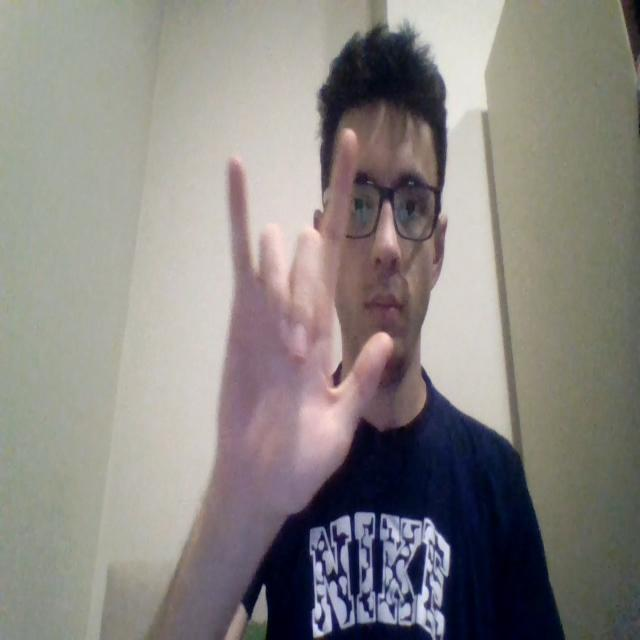iloveyou: (213, 148, 395, 522)
